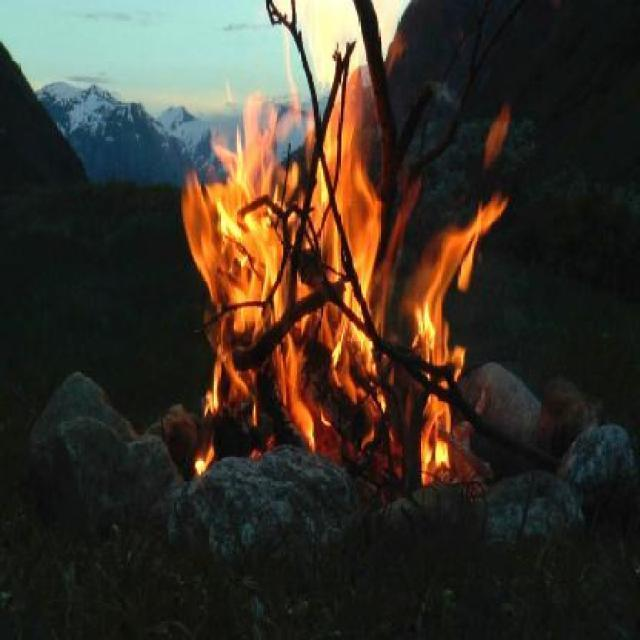Fire: (183, 0, 522, 512)
Smoke: (203, 17, 522, 327)
